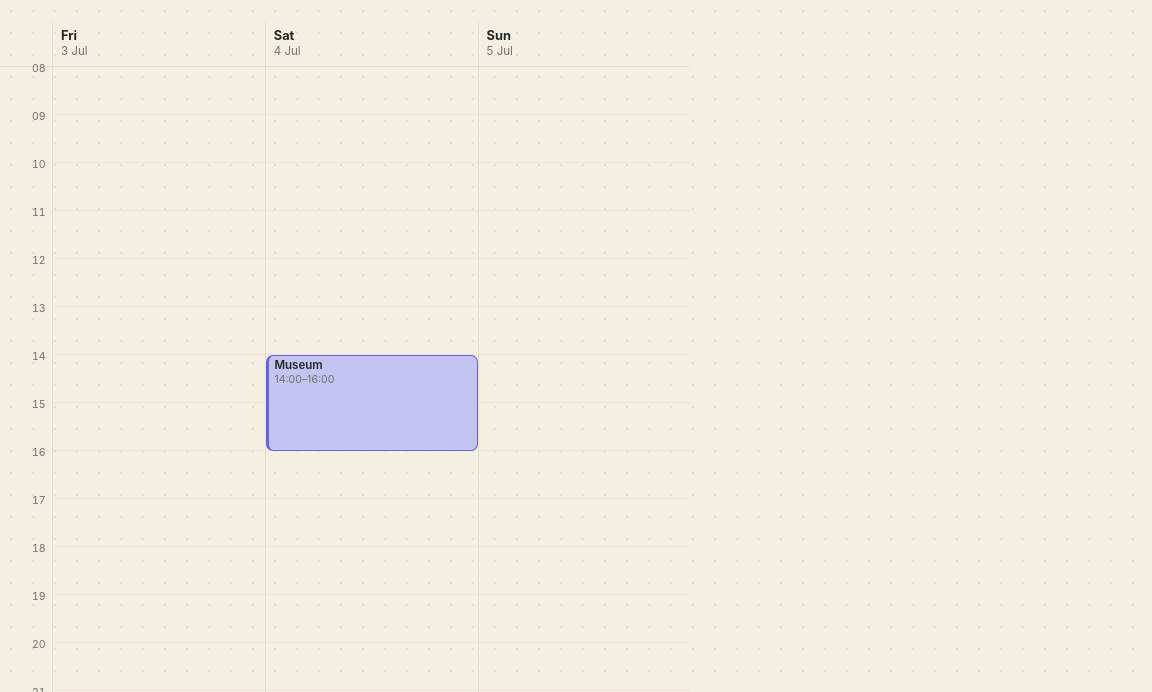
Test case: proposing from an empty hour › opens the propose form on the hour that was clicked
Click the button named "Propose something at".
click(159, 91)  # box [53,67,265,115]
(page scrolled)
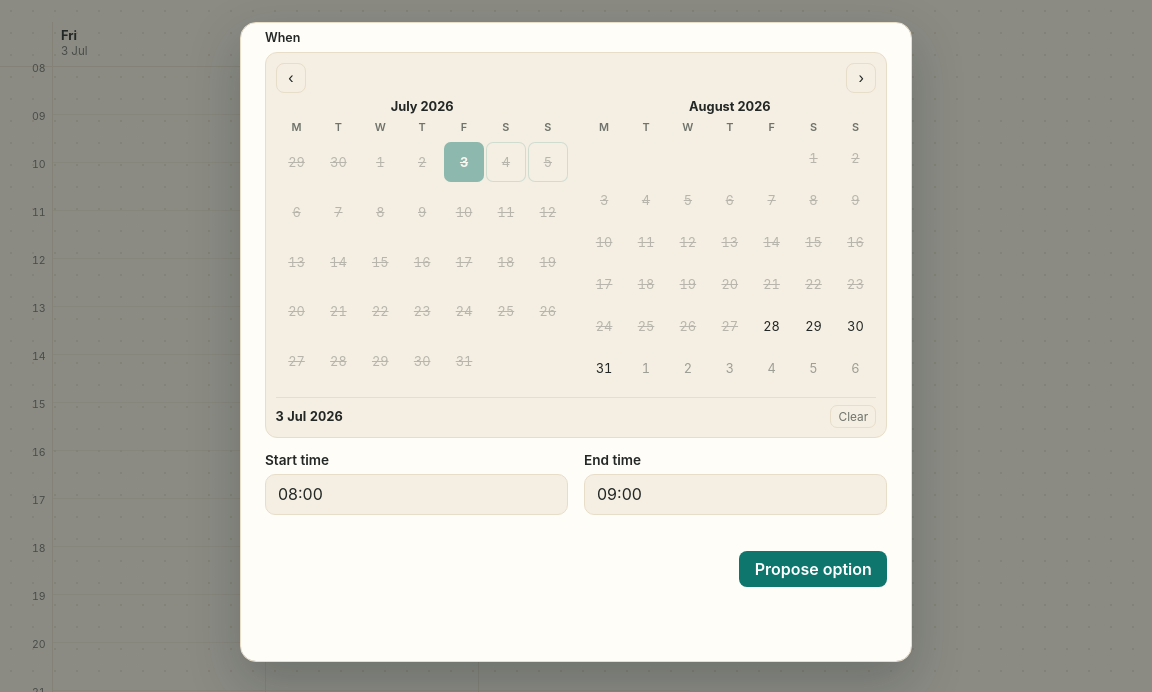
Result: the field labelled "Start time" holds "08:00" at [265,474,568,515]
Result: the field labelled "End time" holds "09:00" at [584,474,887,515]
